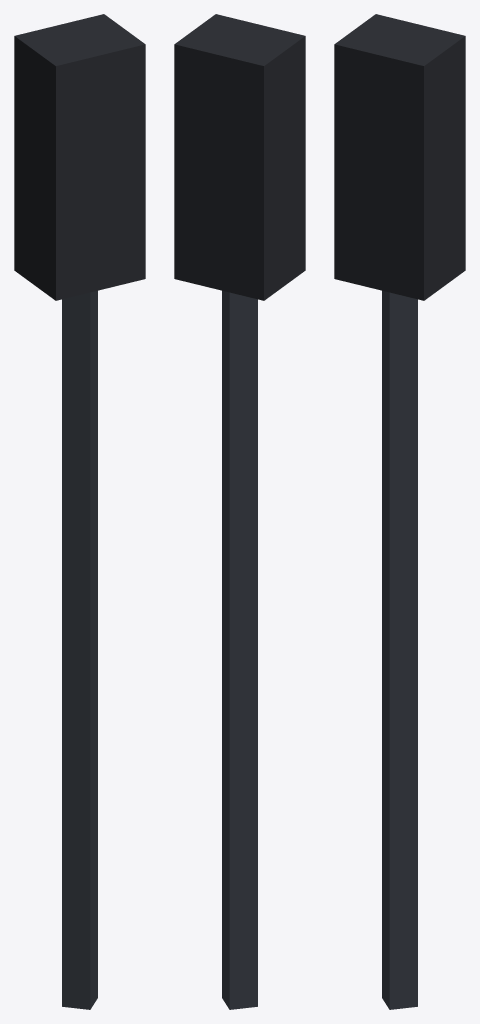
The model's file is P_TrafficLight.fbx.
3 renders of one model, left to right at view 1: azimuth 30°, elevation 25°; view 2: azimuth 150°, elevation 25°; view 3: azimuth 330°, elevation 25°, orthographic.
Visible parts, largest first — view 1: P_TrafficLight.004; view 2: P_TrafficLight.004; view 3: P_TrafficLight.004.
Part boxes in pixels (x1,y1,x2,y2): P_TrafficLight.004: (14,14,145,1009); P_TrafficLight.004: (174,14,305,1009); P_TrafficLight.004: (334,14,465,1009).
Bounding box in the file's own units: 0.2 × 2.05 × 0.16.
